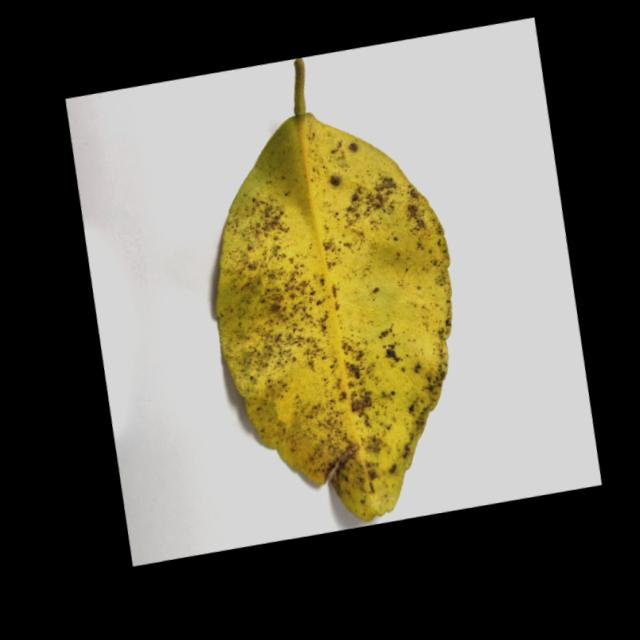melanose: (216, 59, 452, 520)
